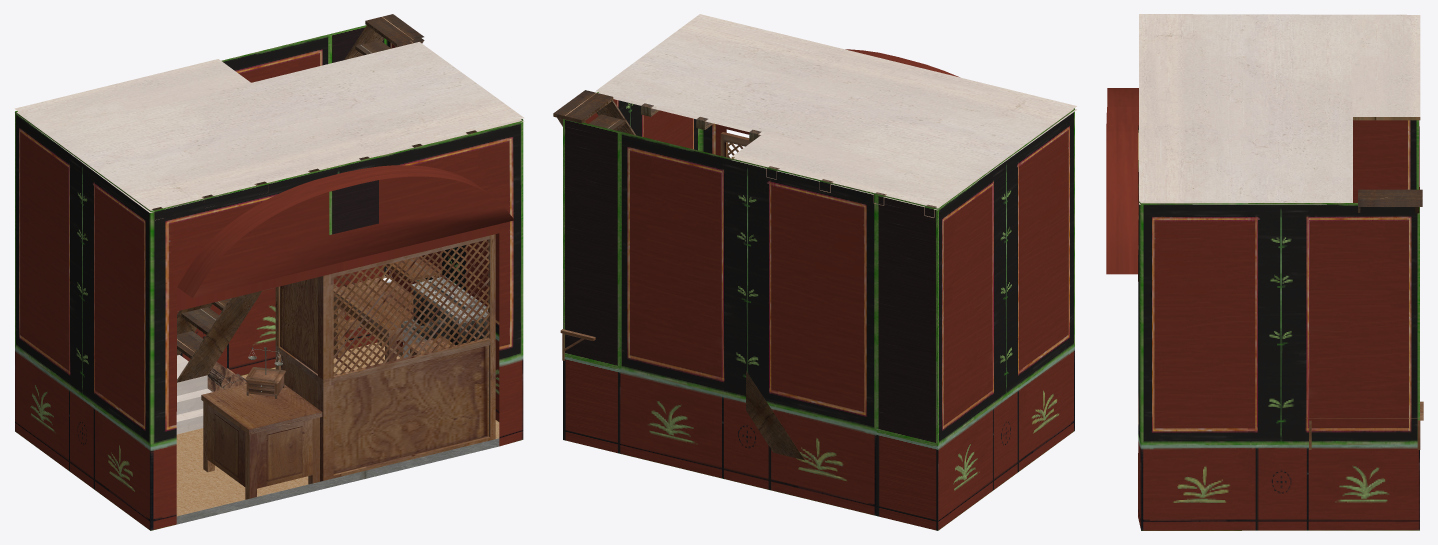
Rendered from BOUTIQUEbijoutier.obj.
3 views of the same model, side by side, from view 1: azimuth 30°, elevation 25°; view 2: azimuth 150°, elevation 25°; view 3: azimuth 270°, elevation 25° (orthographic). The views are drawn at different scales.
Parts seen in each view (by area): view 1: MURINTERIEUR, PLANCHER, CLAUSTRA, PETITCOMPTOIR, ESCALIERS, ETABLIS1, PETITEFORGE, CAISSONSOUSBALANCE, TASDEBOIS; view 2: MURINTERIEUR, PLANCHER, ESCALIERS; view 3: MURINTERIEUR, PLANCHER, ESCALIERS, ETAGERE1.
Part boxes in pixels (x1,y1,x2,y2): MURINTERIEUR: (15, 25, 523, 530); PLANCHER: (14, 42, 524, 220); CLAUSTRA: (275, 234, 495, 481); PETITCOMPTOIR: (201, 384, 322, 499); ESCALIERS: (176, 14, 424, 434); ETABLIS1: (333, 276, 413, 361); PETITEFORGE: (401, 276, 487, 357); CAISSONSOUSBALANCE: (245, 367, 286, 398); TASDEBOIS: (207, 362, 246, 391); MURINTERIEUR: (563, 49, 1074, 530); PLANCHER: (595, 14, 1076, 217); ESCALIERS: (553, 90, 804, 460); MURINTERIEUR: (1106, 88, 1419, 530); PLANCHER: (1139, 14, 1420, 204); ESCALIERS: (1358, 189, 1422, 213); ETAGERE1: (1306, 401, 1423, 449).
Bounding box in the file's own units: 14.61 × 11.84 × 10.28.
50 materials, 45 textured.
